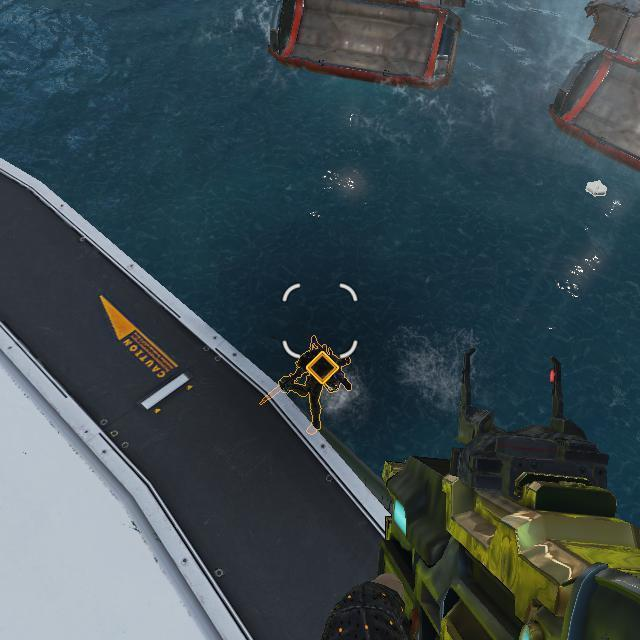avatar: (277, 334, 356, 437)
object: (304, 349, 341, 387)
